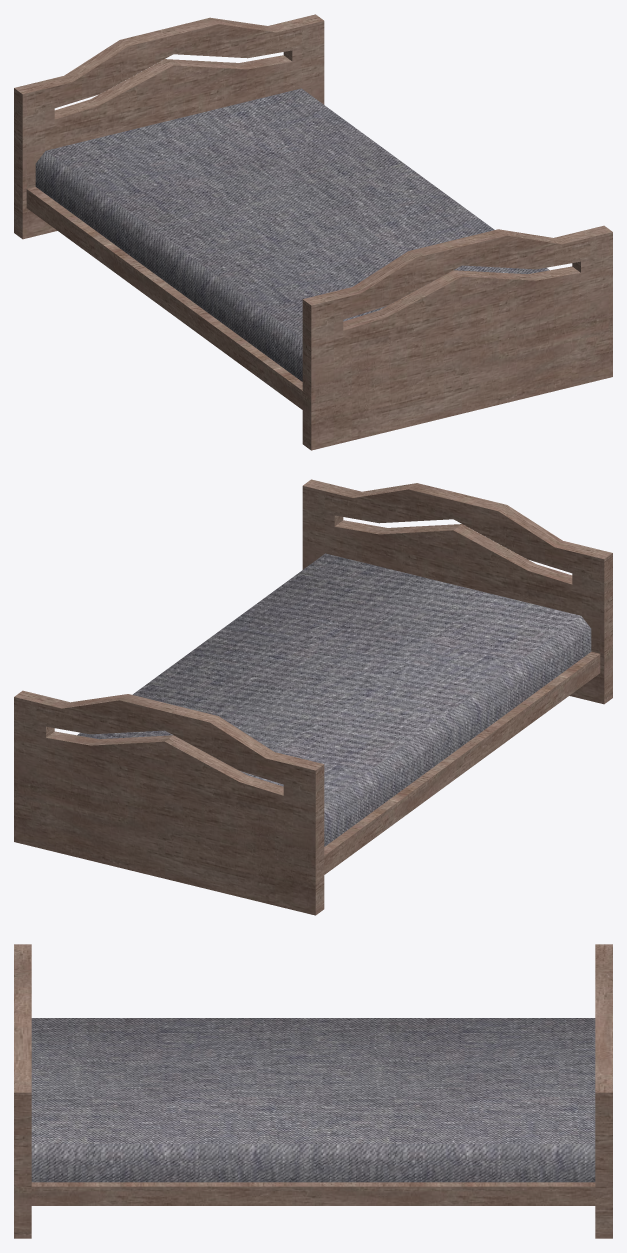
Rendered from Bed-col.glb.
The picture shows the model from 3 angles, top to bottom: view 1: azimuth 30°, elevation 25°; view 2: azimuth 150°, elevation 25°; view 3: azimuth 270°, elevation 25°; orthographic projection.
Visible parts, largest first — view 1: Bed-col; view 2: Bed-col; view 3: Bed-col.
Boxes of the visible parts, x1=… form: Bed-col: x1=14, y1=14, x2=612, y2=450; Bed-col: x1=14, y1=479, x2=612, y2=915; Bed-col: x1=14, y1=944, x2=612, y2=1238.
Bounding box in the file's own units: 1.71 × 0.9079 × 2.92.
2 materials, 2 textured.
